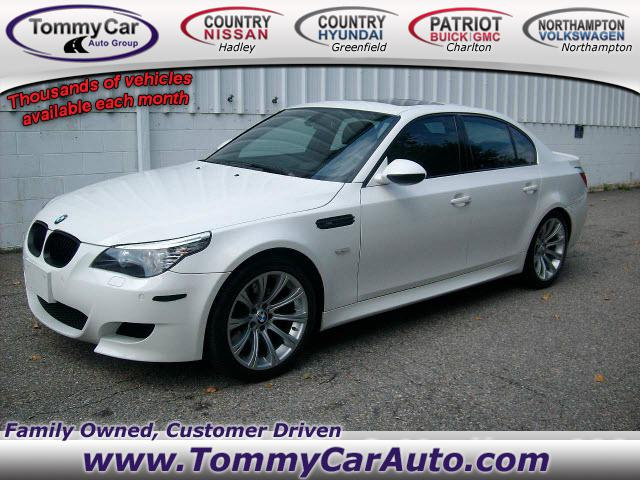Car: (17, 86, 611, 391)
